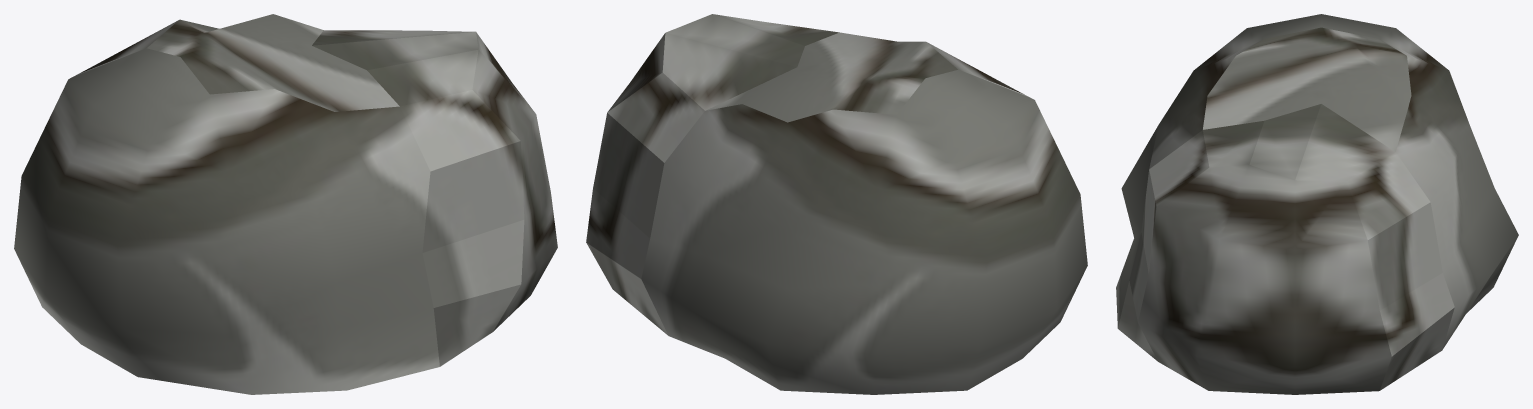
The model's file is Stone.FBX.
3 renders of one model, left to right at view 1: azimuth 30°, elevation 25°; view 2: azimuth 150°, elevation 25°; view 3: azimuth 270°, elevation 25°, orthographic. The views are drawn at different scales.
Parts seen in each view (by area): view 1: Cone001; view 2: Cone001; view 3: Cone001.
Part boxes in pixels (box(x1,y1,x2,y2)): Cone001: box(14, 14, 557, 394); Cone001: box(586, 14, 1087, 394); Cone001: box(1116, 14, 1518, 394).
Bounding box in the file's own units: 28.7 × 15.48 × 23.81.
